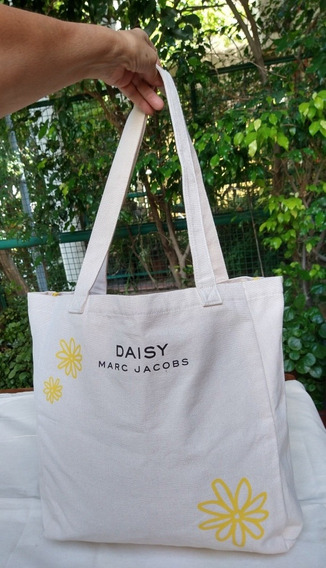cartera: (24, 60, 305, 556)
